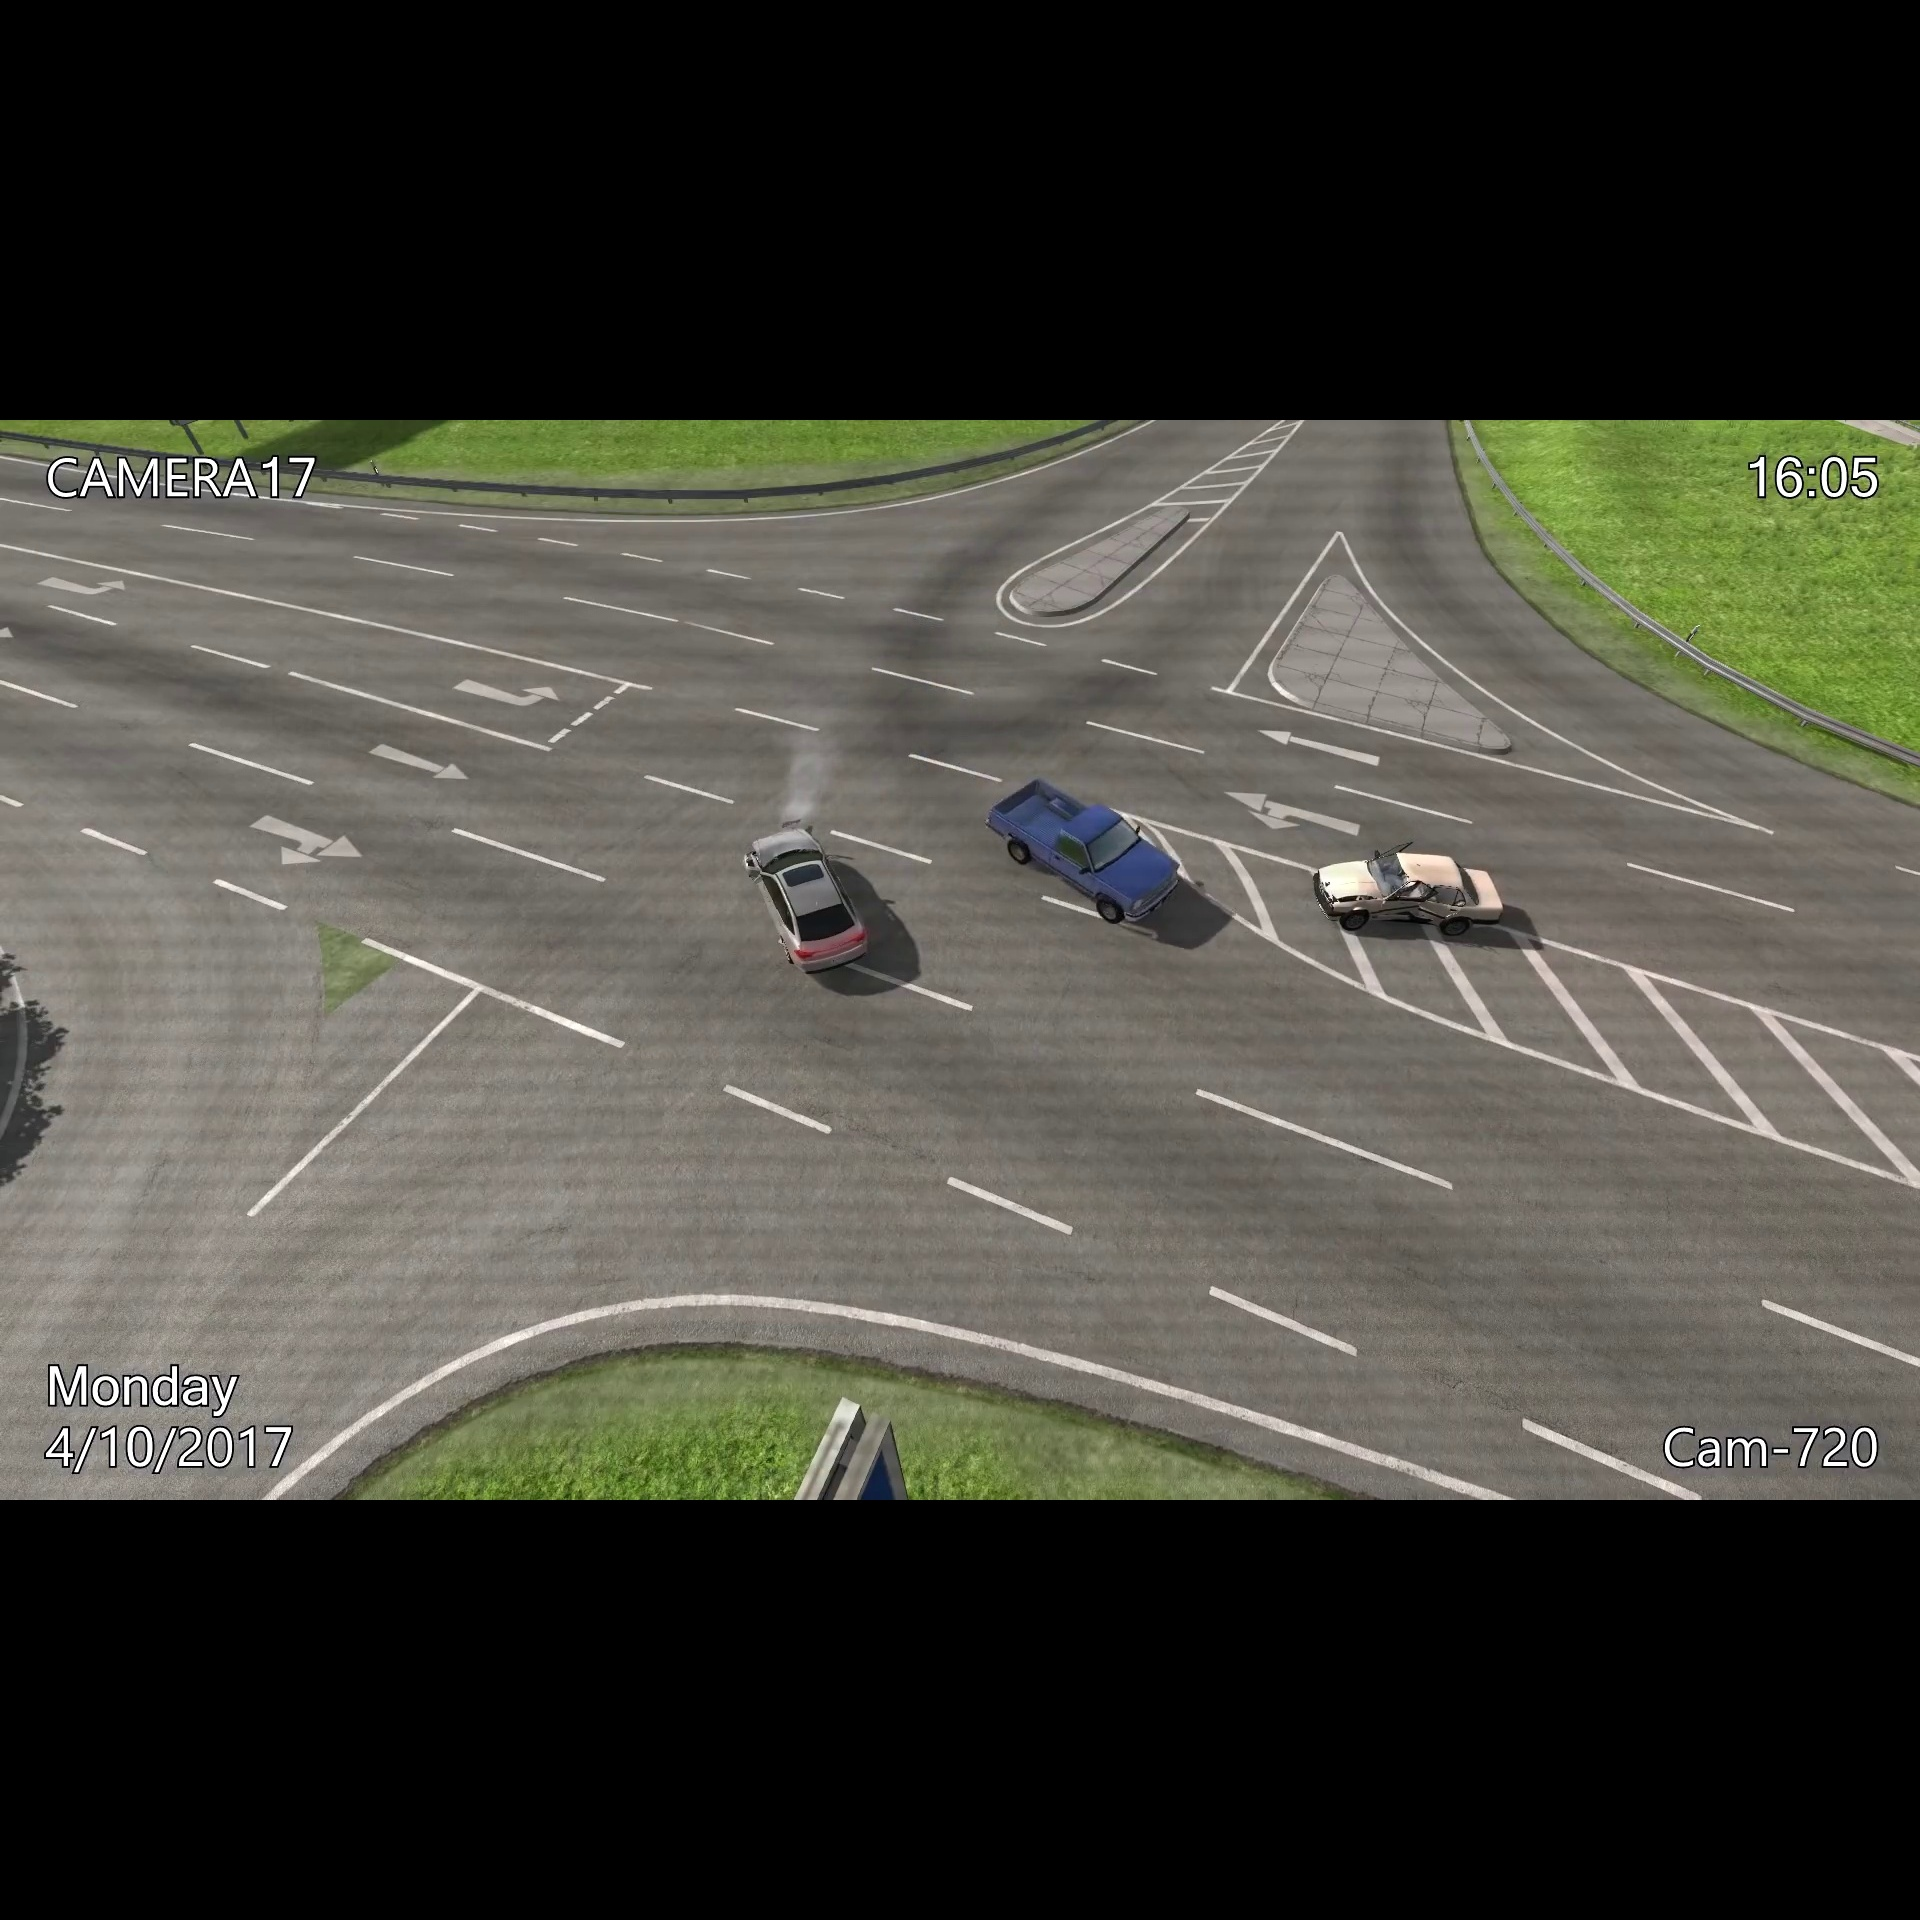vehicle: (981, 767, 1183, 928), (731, 819, 872, 979), (1306, 847, 1507, 935)
